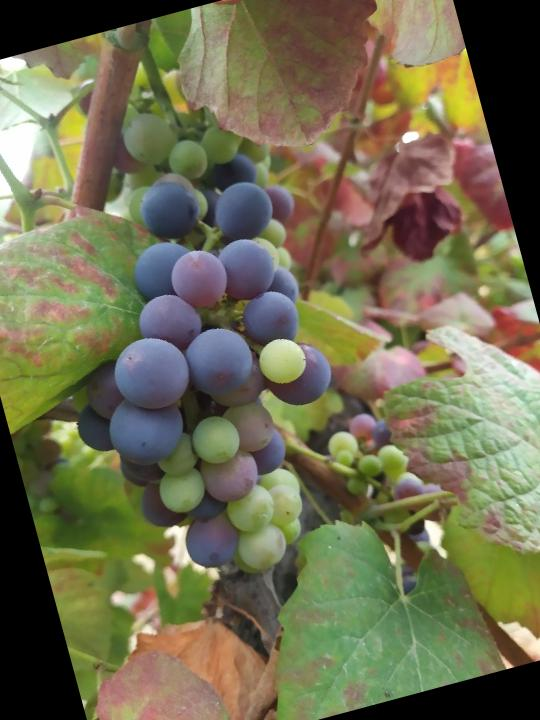grape: (17, 143, 382, 612)
